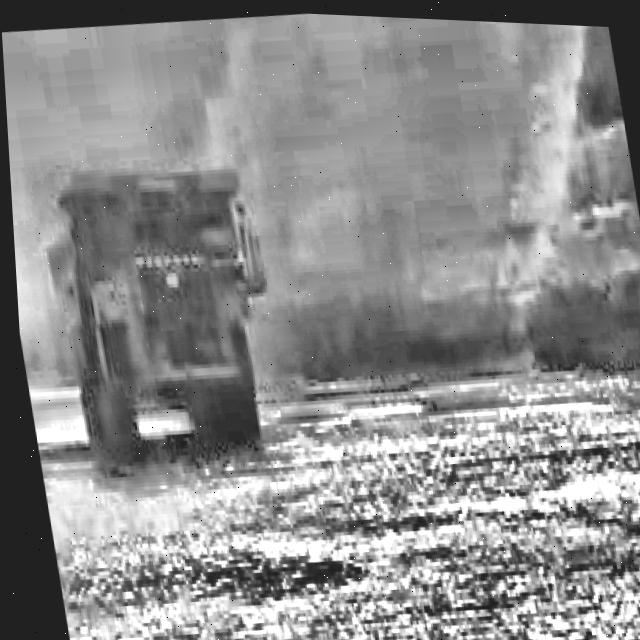dump_truck: (15, 145, 284, 479)
